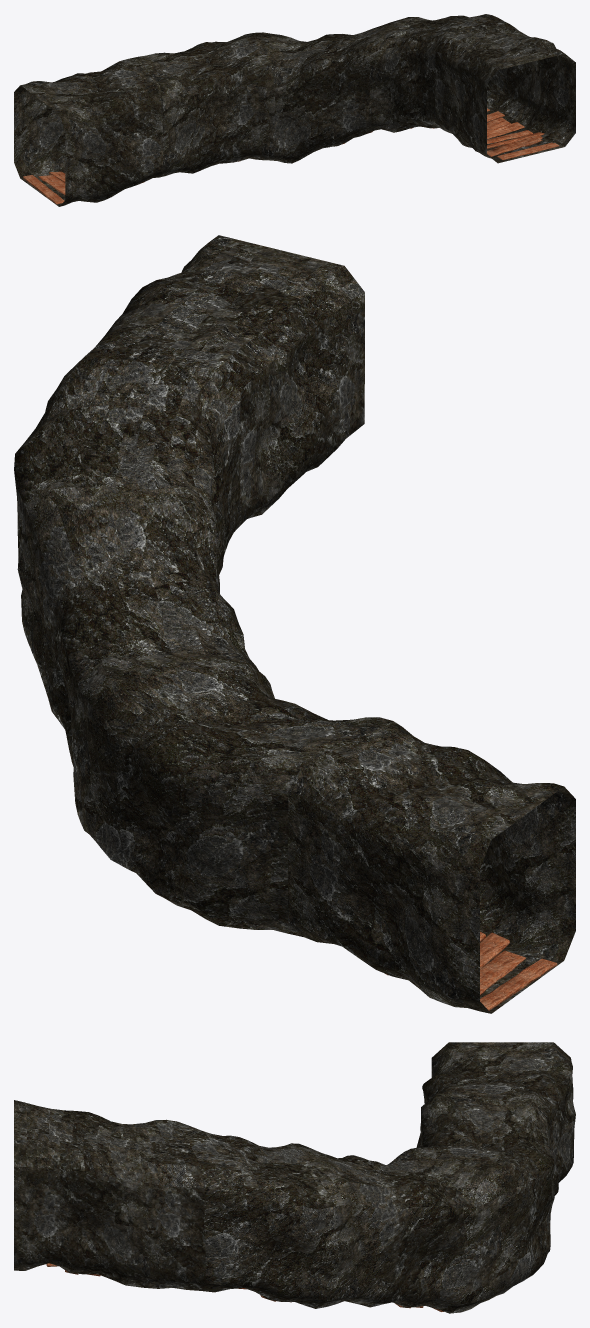
The model's file is Cave_057.fbx.
3 renders of one model, top to bottom at view 1: azimuth 30°, elevation 25°; view 2: azimuth 150°, elevation 25°; view 3: azimuth 270°, elevation 25°, orthographic. The views are drawn at different scales.
Visible parts, largest first — view 1: Cave.057; view 2: Cave.057; view 3: Cave.057.
Part boxes in pixels (<box>): Cave.057: <box>14,14,575,206</box>; Cave.057: <box>14,235,575,1013</box>; Cave.057: <box>14,1042,575,1313</box>.
Bounding box in the file's own units: 1217 × 608 × 1211.
